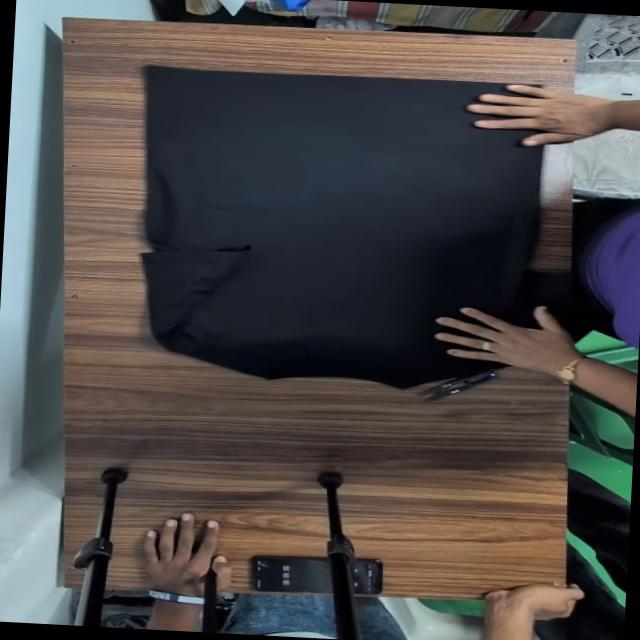new-garment: (142, 67, 583, 388)
